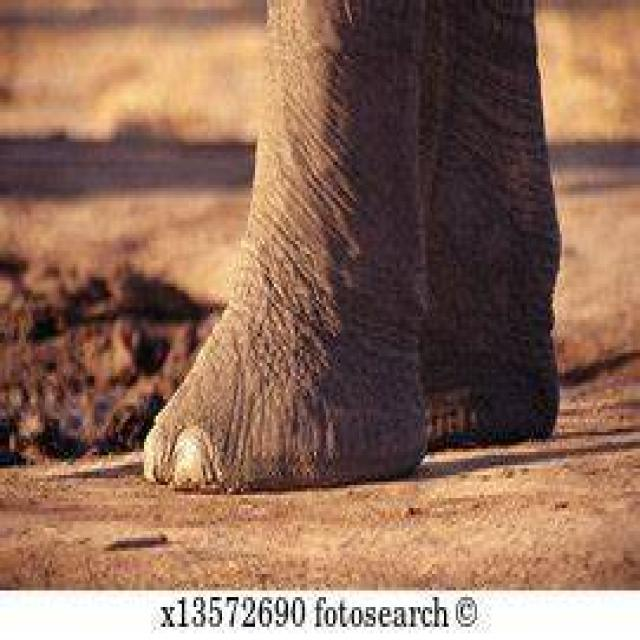elephant: (142, 0, 562, 495)
